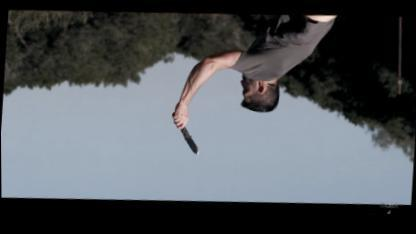knife: (166, 110, 204, 163)
